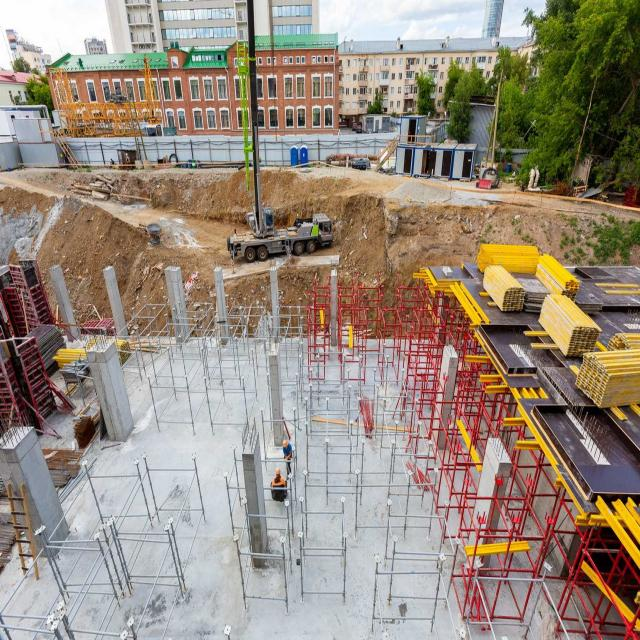Helmet: (276, 469, 283, 479), (283, 441, 289, 451)
